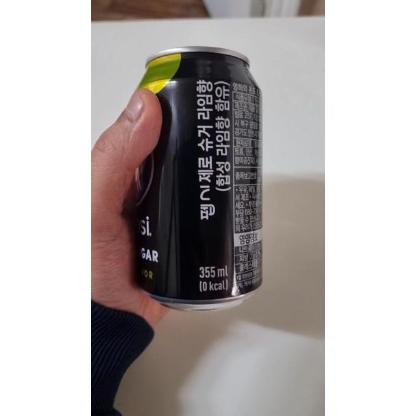Can: (136, 48, 264, 312)
